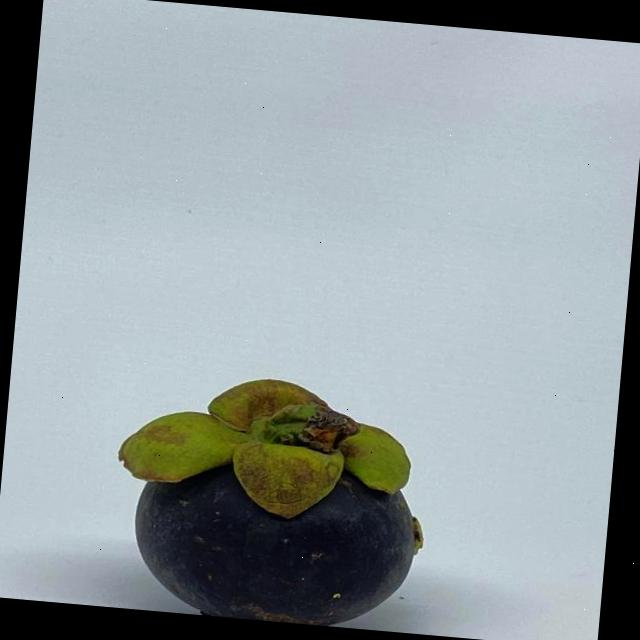mangosteen: (102, 327, 484, 637)
